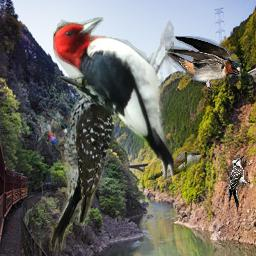Cuckoo: (146, 150, 204, 180)
Swallow: (165, 36, 241, 93)
Woodpecker: (53, 17, 174, 179), (37, 74, 114, 251), (227, 154, 250, 213)
